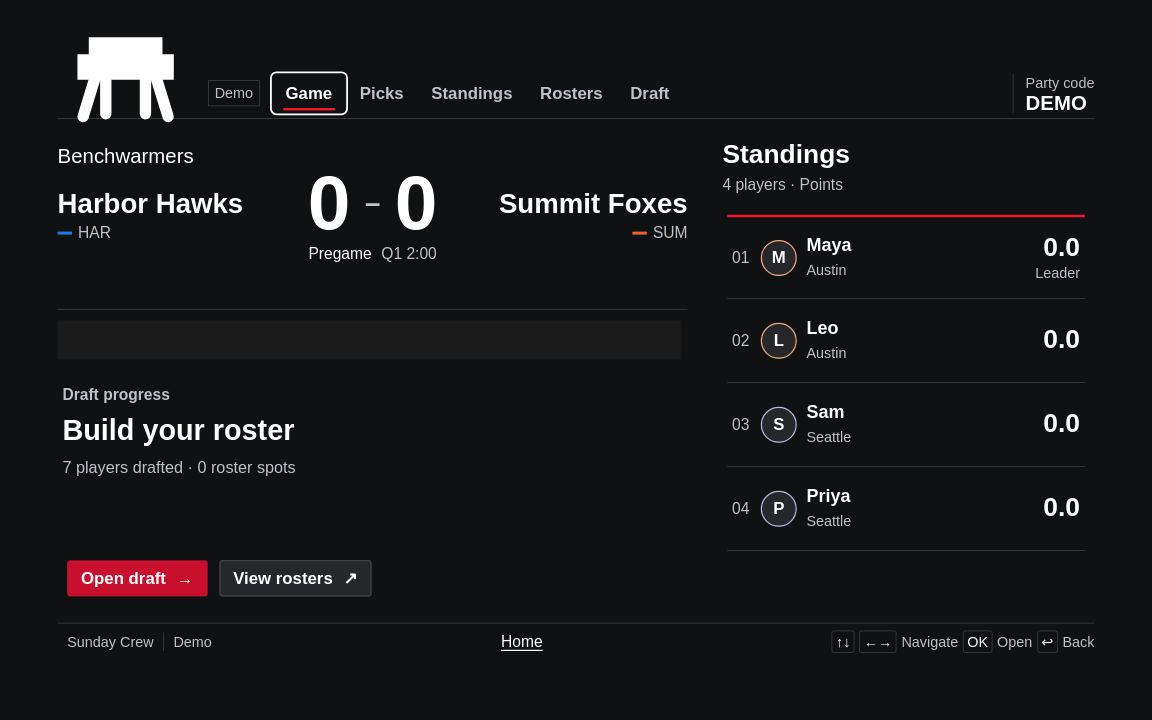
TvPage › keeps draft night optional before the game starts
Click the button "Draft".
click(650, 93)  # box [619, 75, 681, 111]
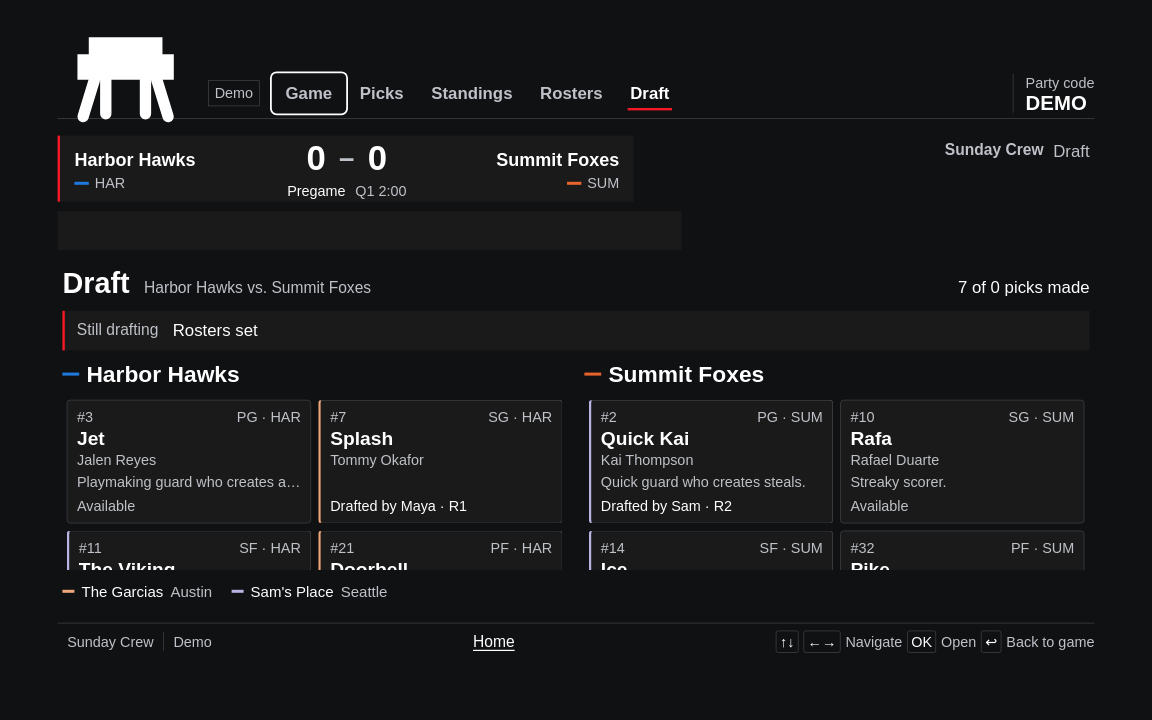
Expected: the heading "Draft" is shown, [62, 269, 130, 298]
Click the button "Draft".
click(650, 93)  # box [619, 75, 681, 111]
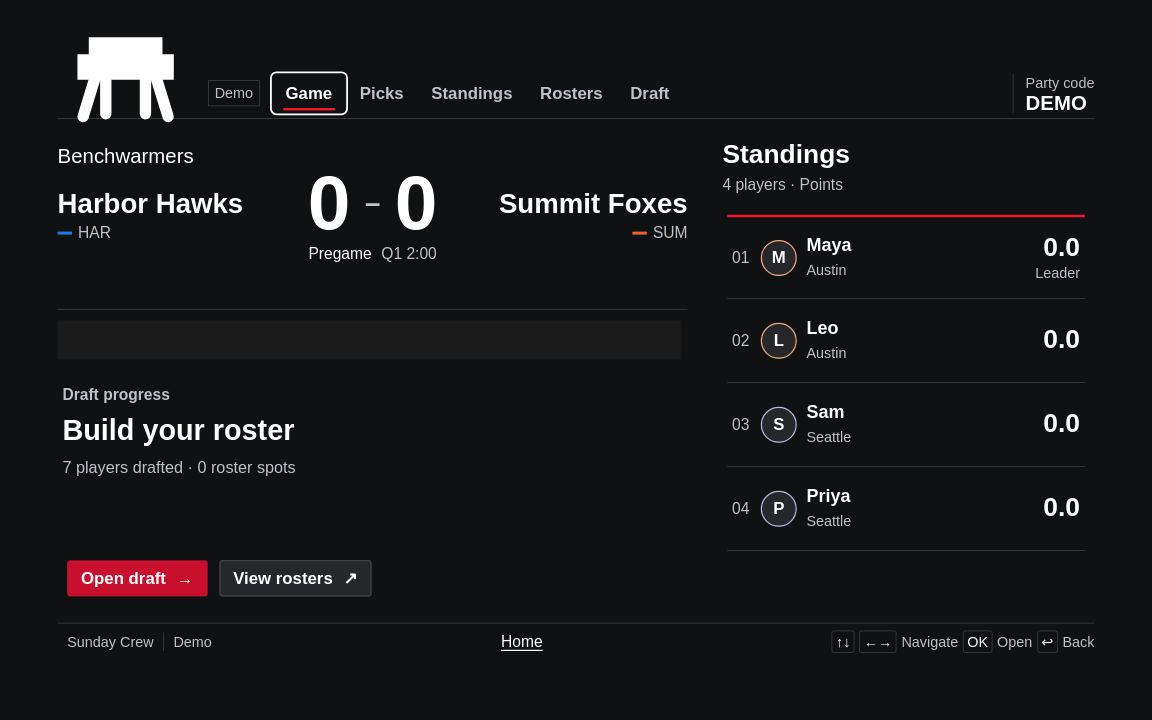
Expected: the element with class "tv-draft" is gone
